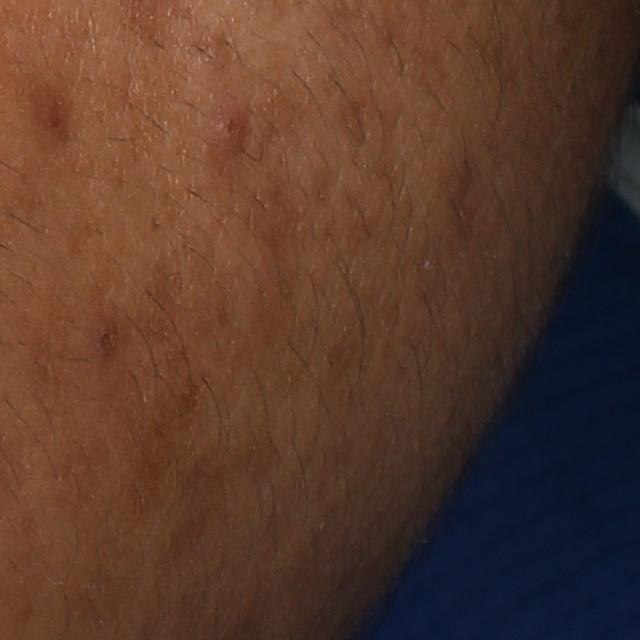papule: (198, 102, 253, 150)
